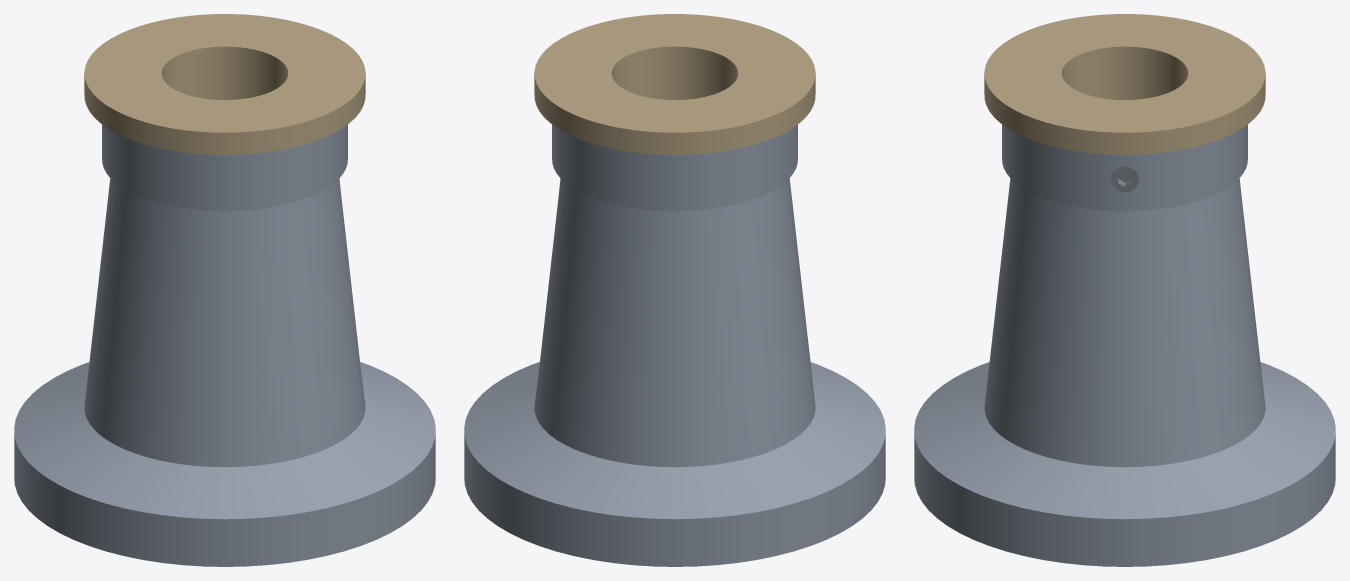
File: step_15.glb
3 views of the same model, side by side, from view 1: azimuth 30°, elevation 25°; view 2: azimuth 150°, elevation 25°; view 3: azimuth 270°, elevation 25° (orthographic).
Visible parts, largest first — view 1: part__body, part__bronze bush; view 2: part__body, part__bronze bush; view 3: part__body, part__bronze bush, part__set screw M8 x 12.
Part boxes in pixels (x1,y1,x2,y2): part__body: (14,124,435,566); part__bronze bush: (84,14,365,154); part__body: (464,124,885,566); part__bronze bush: (534,14,815,154); part__body: (914,124,1335,566); part__bronze bush: (984,14,1265,154); part__set screw M8 x 12: (1111,166,1138,192).
Bounding box in the file's own units: 120 × 127 × 120.
